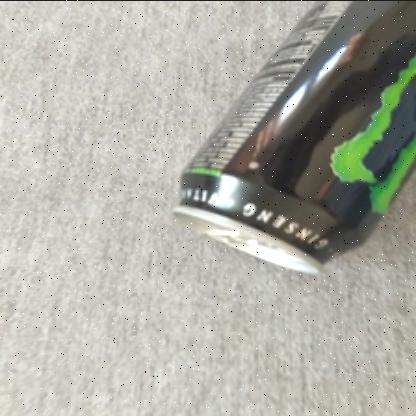Can: (172, 0, 416, 274)
